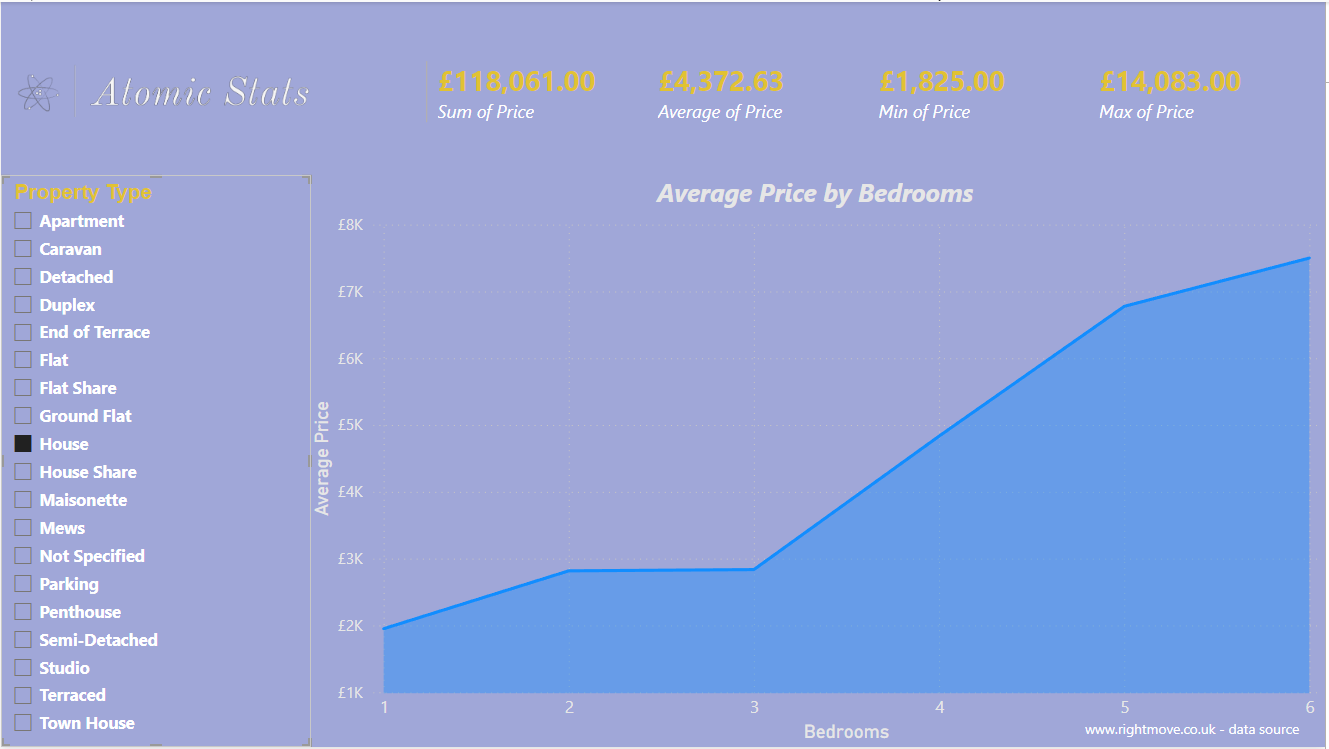

The dashboard page shown, as its layout file describes it:
{"tool":"powerbi","page":{"name":"Rightmove","canvas":[1280,720],"ordinal":0},"visuals":[{"type":"multiRowCard","fields":{"Values":["Sum(rightmove.Price)","Avg(rightmove.Price)","Min(rightmove.Price)","Max(rightmove.Price)"]},"box":[406.3,52.5,873.7,84.6],"z":0},{"type":"stackedAreaChart","title":"Average Price by Bedrooms","fields":{"Category":["rightmove.Bedrooms"],"Y":["Avg(rightmove.Price)"]},"box":[293.5,167.2,986.5,553],"z":2},{"type":"slicer","fields":{"Values":["rightmove.Type"]},"box":[0,167,300,553],"z":3},{"type":"image","box":[0,0,307.1,167.2],"z":5},{"type":"textbox","box":[1022.8,688.3,257.2,31.9],"z":6}]}

Visuals, with their boxes in screenshot pixels (x1, y1, x2, y2), scaled from the page's 1280x720 canvas onto the 1329x749 screenshot:
multiRowCard - Sum(rightmove.Price) x Avg(rightmove.Price): [422, 55, 1328, 143]
"Average Price by Bedrooms" stackedAreaChart: [305, 174, 1328, 748]
slicer - rightmove.Type: [0, 174, 311, 748]
image: [0, 0, 319, 174]
textbox: [1062, 716, 1328, 748]
